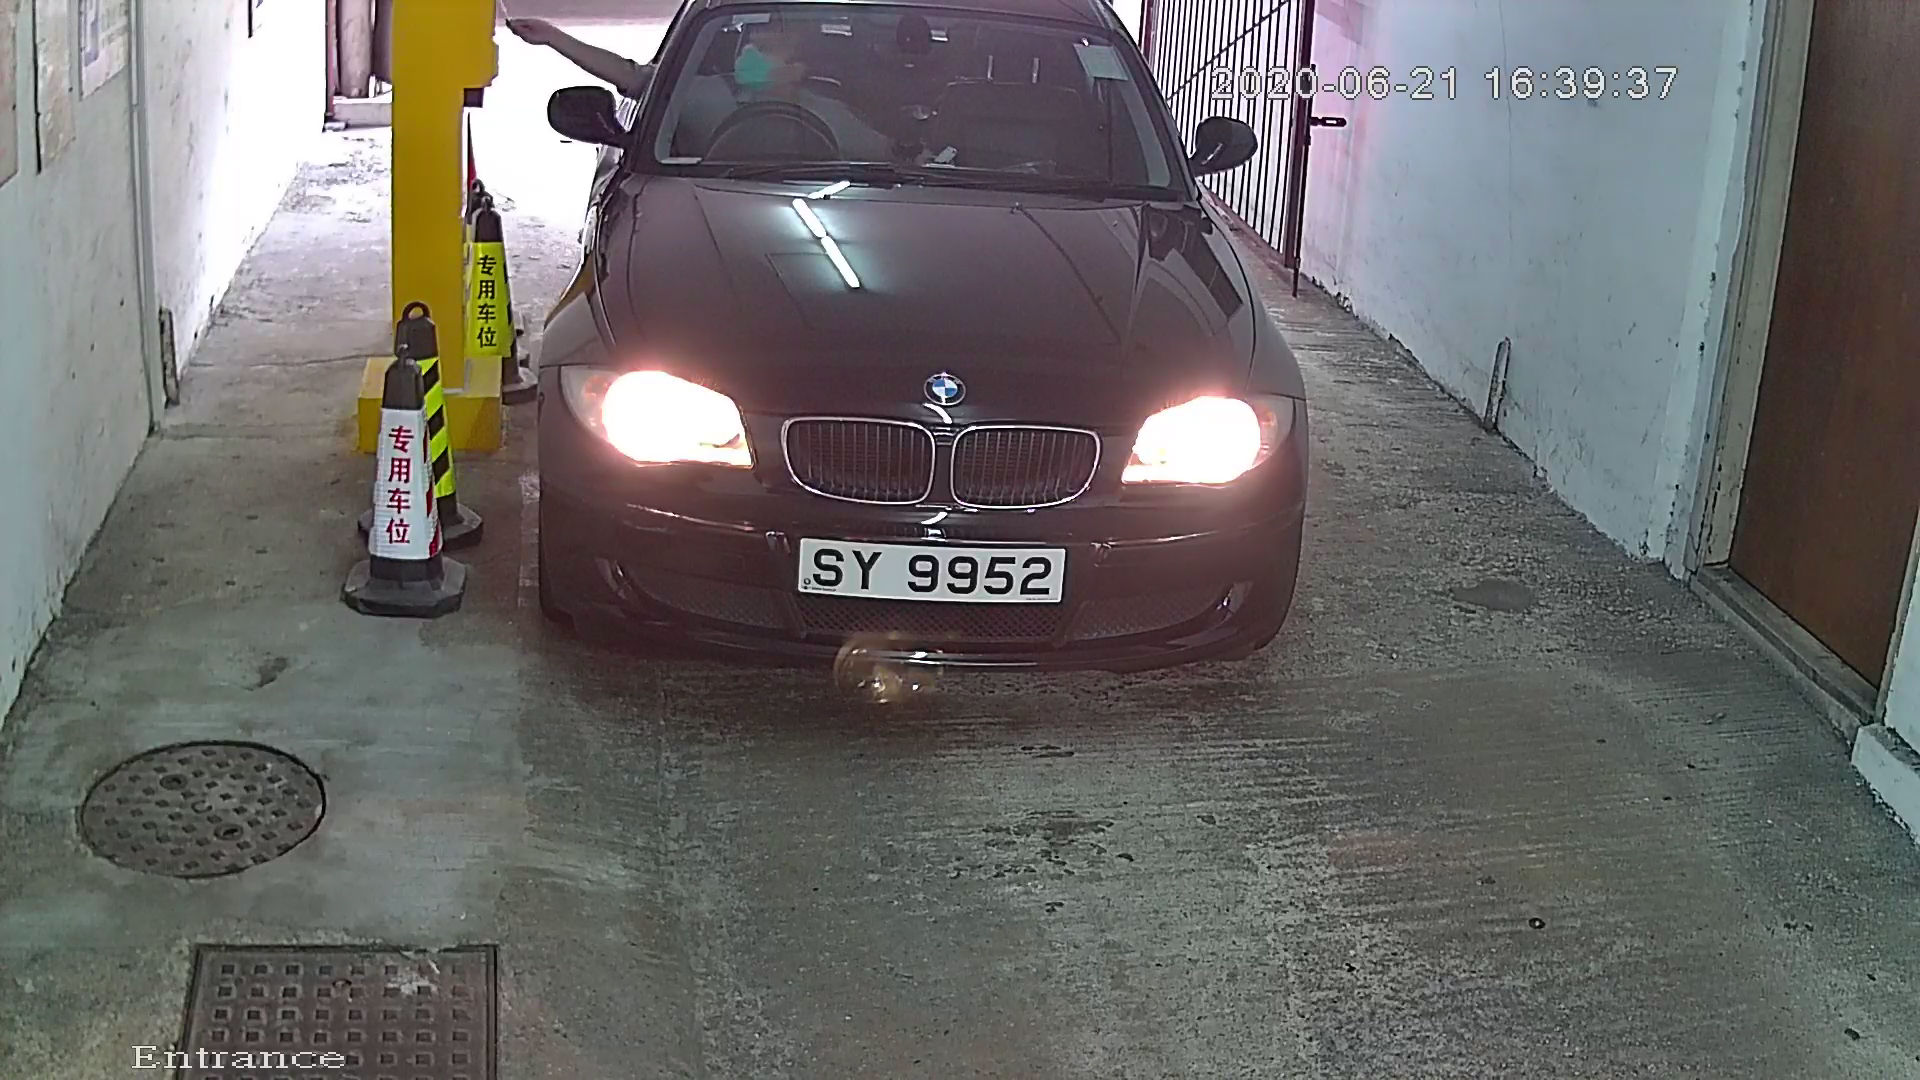privatecar: (500, 3, 1366, 752)
